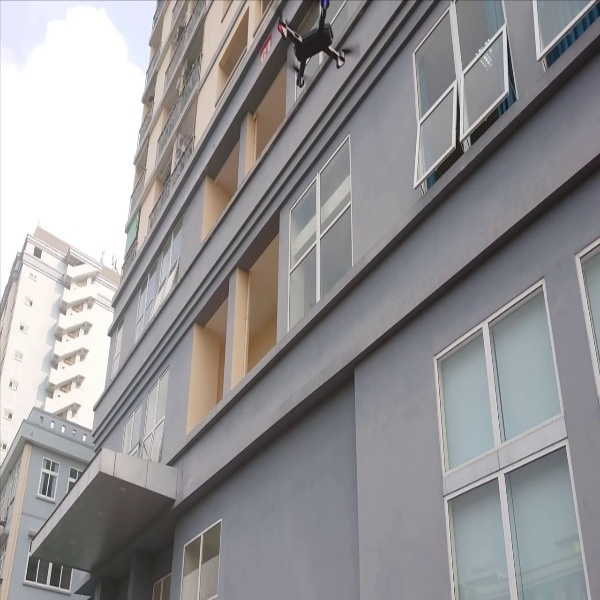drone: (270, 1, 361, 98)
